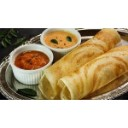dosa: (40, 28, 126, 97)
